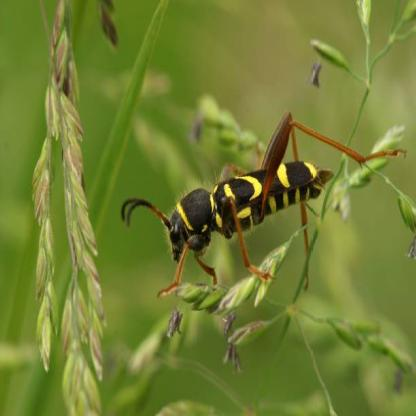sawfly: (119, 108, 411, 303)
